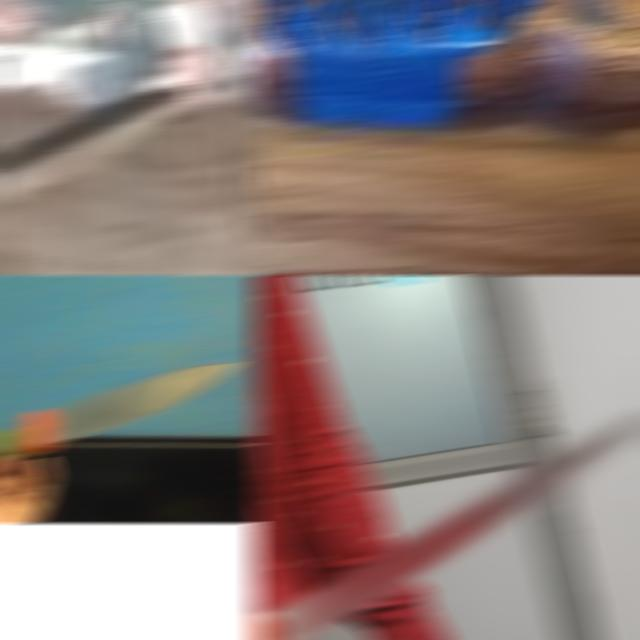Knife: (251, 415, 640, 640), (0, 82, 194, 225), (0, 364, 244, 460)
Knife_Handle: (0, 70, 192, 274)
